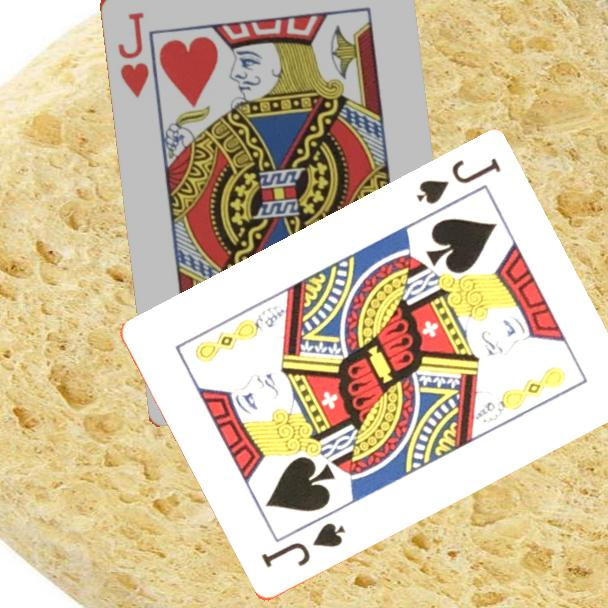h11: (113, 8, 151, 101)
s11: (412, 155, 504, 209), (257, 519, 349, 572)
